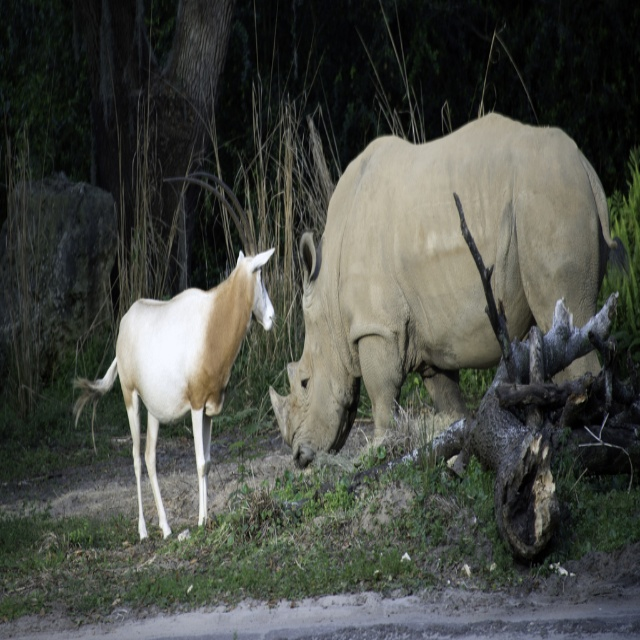Rhinoceros: (269, 113, 631, 471)
